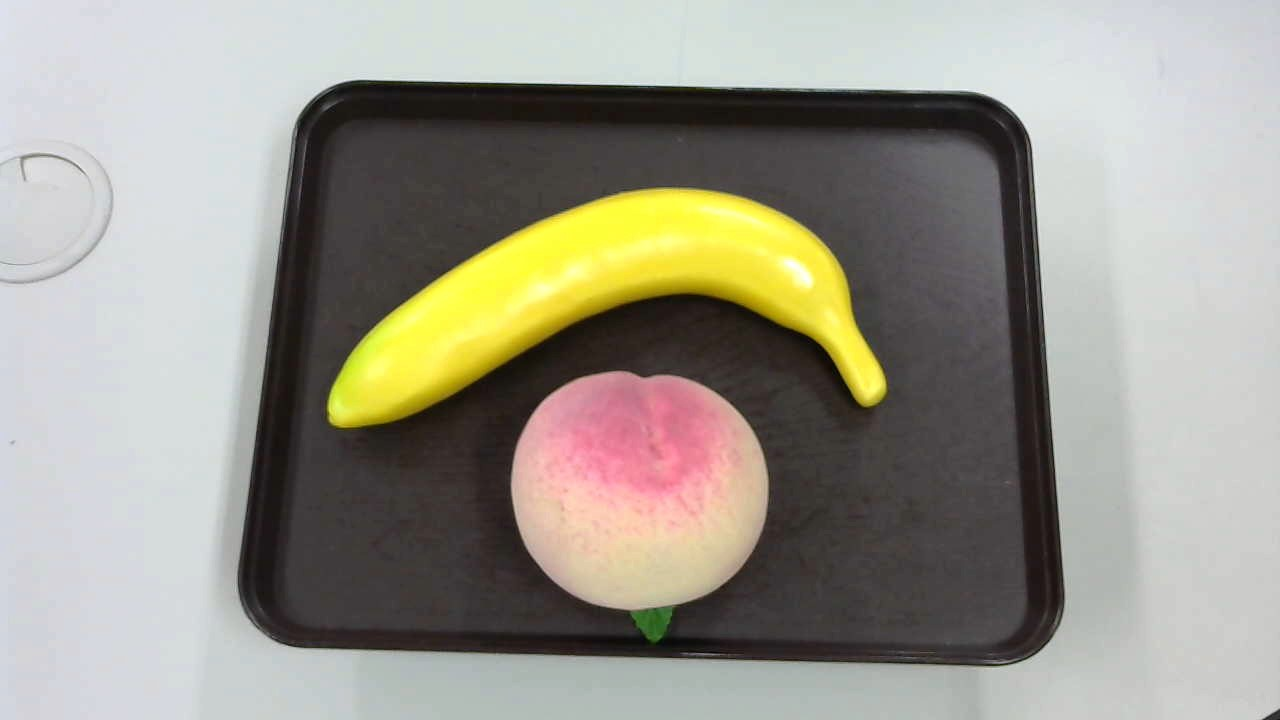banana: (328, 184, 898, 430)
peach: (510, 369, 773, 639)
